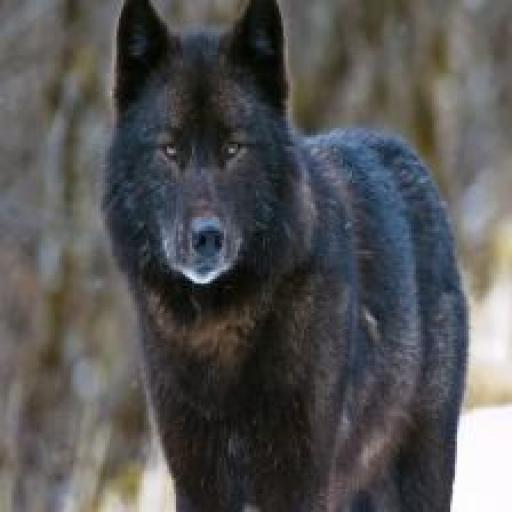wolf: (103, 0, 472, 512)
